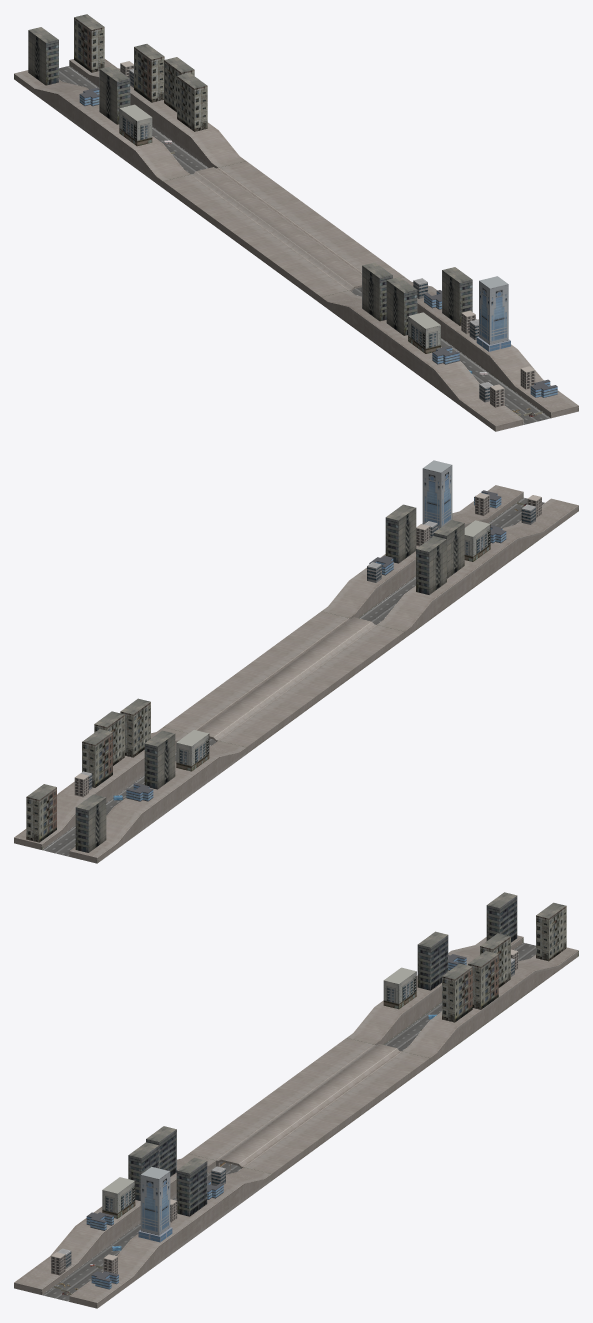
File: stage1.dae
3 renders of one model, top to bottom at view 1: azimuth 30°, elevation 25°; view 2: azimuth 150°, elevation 25°; view 3: azimuth 330°, elevation 25°, orthographic.
Visible parts, largest first — view 1: tunnel, road, building5, building15, building23, building24, building17, building021, building10, building11, building13, building18 (+2 smaller); view 2: tunnel, road, building5, building021, building23, building10, building13, building24, building17, building15, building18, building11 (+2 smaller); view 3: tunnel, road, building5, building10, building15, building021, building24, building16, building23, building18, building9, building11 (+2 smaller).
Boxes of the visible parts, x1,y1,x2,y2 form: tunnel: (14, 59, 578, 431); road: (59, 66, 550, 424); building5: (476, 276, 510, 351); building15: (177, 73, 207, 131); building23: (28, 27, 58, 85); building24: (74, 14, 104, 72); building17: (134, 44, 164, 102); building021: (99, 65, 130, 124); building10: (442, 267, 472, 325); building11: (386, 277, 417, 335); building13: (362, 262, 392, 321); building18: (119, 104, 152, 146); tunnel: (14, 485, 578, 863); road: (42, 497, 544, 856); building5: (422, 460, 452, 529); building021: (144, 730, 175, 789); building23: (75, 794, 106, 852); building10: (385, 504, 416, 563); building13: (416, 536, 446, 594); building24: (26, 784, 56, 842); building17: (82, 729, 112, 787); building15: (120, 698, 150, 757); building18: (176, 730, 209, 771); building11: (433, 520, 464, 578); tunnel: (14, 935, 578, 1308); road: (42, 942, 535, 1301); building5: (138, 1167, 172, 1242); building10: (176, 1157, 207, 1216); building15: (442, 963, 472, 1022); building021: (417, 931, 448, 990); building24: (536, 902, 566, 961); building16: (468, 951, 498, 1009); building23: (486, 892, 517, 942); building18: (383, 967, 416, 1009); building9: (102, 1177, 135, 1218); building11: (128, 1142, 159, 1200).
Bounding box in the file's own units: 1.25 × 1.15 × 12.53.
17 materials, 17 textured.
